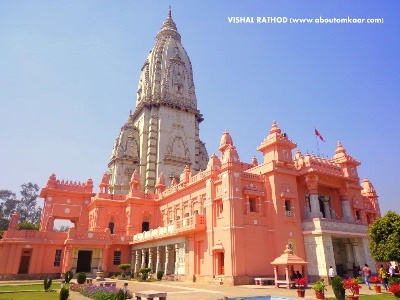gopuram: (126, 34, 219, 162)
mandapa: (59, 230, 121, 281)
